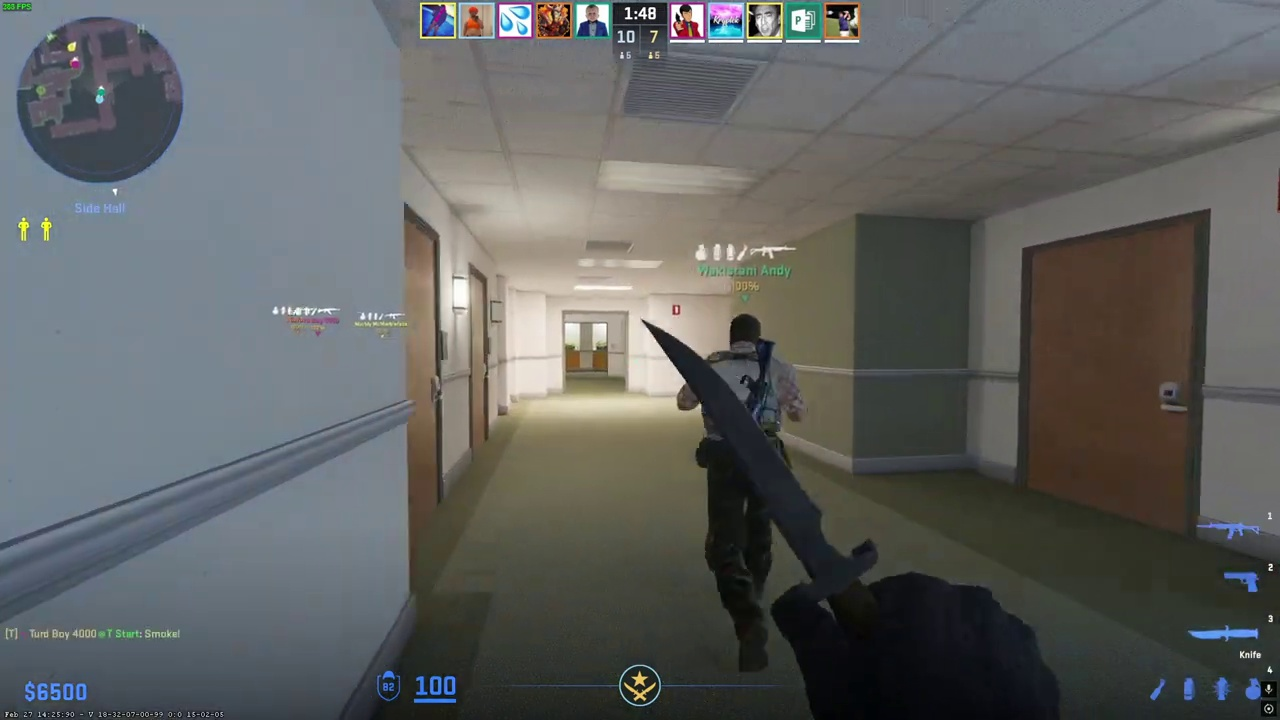Terrorist: (684, 313, 805, 675)
